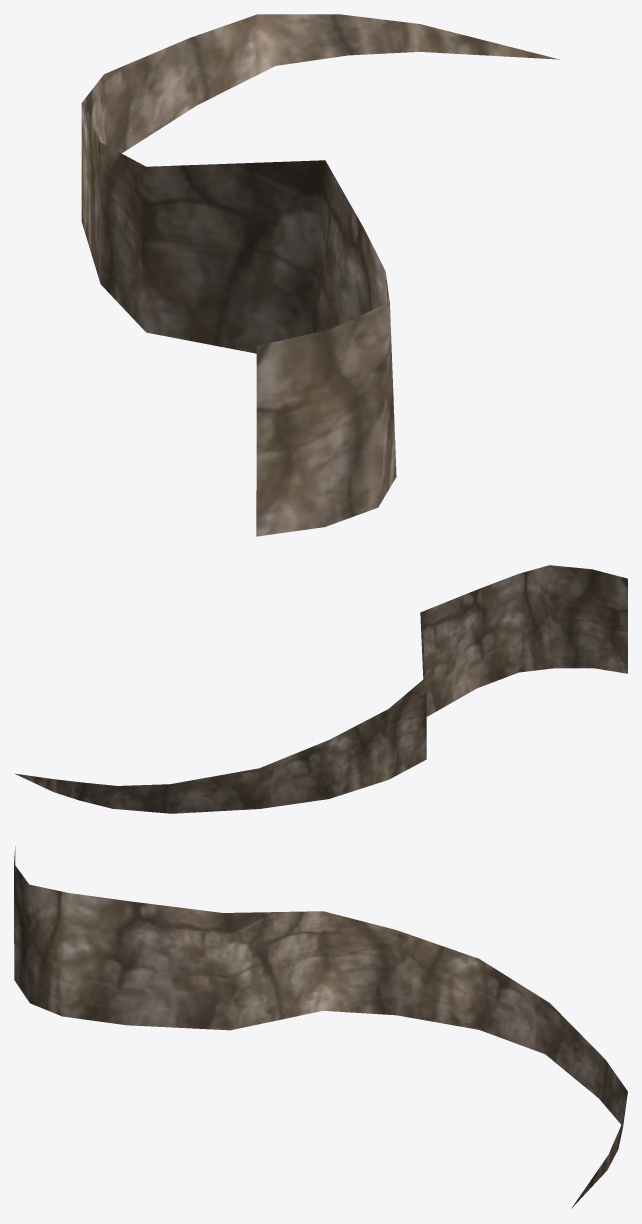
Rendered from EKH_GROTTO_PS_GR_STRIP.fbx.
The picture shows the model from 3 angles, top to bottom: view 1: azimuth 30°, elevation 25°; view 2: azimuth 150°, elevation 25°; view 3: azimuth 270°, elevation 25°; orthographic projection. The views are drawn at different scales.
Visible parts, largest first — view 1: EKH_GROTTO_PS_GR_STRIP; view 2: EKH_GROTTO_PS_GR_STRIP; view 3: EKH_GROTTO_PS_GR_STRIP.
Part boxes in pixels (x1,y1,x2,y2): EKH_GROTTO_PS_GR_STRIP: (81,14,559,536); EKH_GROTTO_PS_GR_STRIP: (15,565,627,813); EKH_GROTTO_PS_GR_STRIP: (14,846,627,1208).
Bounding box in the file's own units: 61567 × 18323 × 71153.
Materials: 1 (1 with a texture image).
